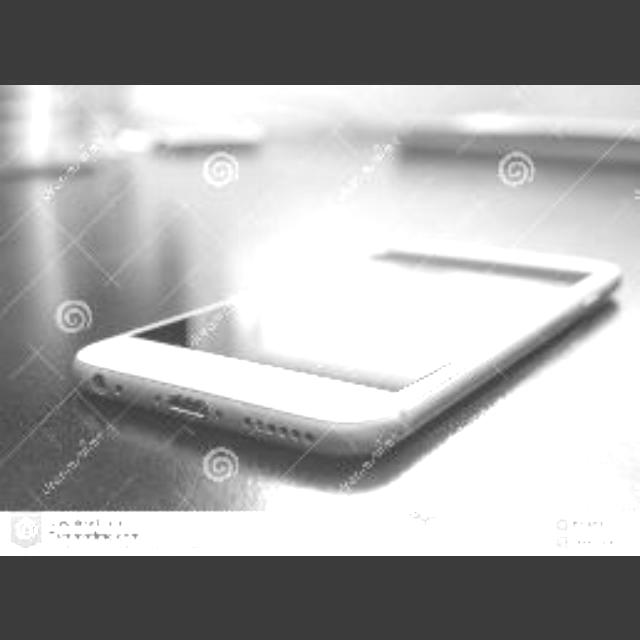fake: (66, 174, 630, 474)
